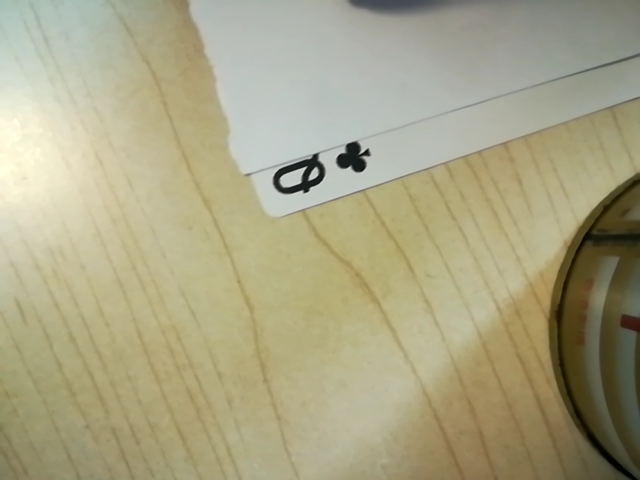mh q: (262, 133, 378, 203)
